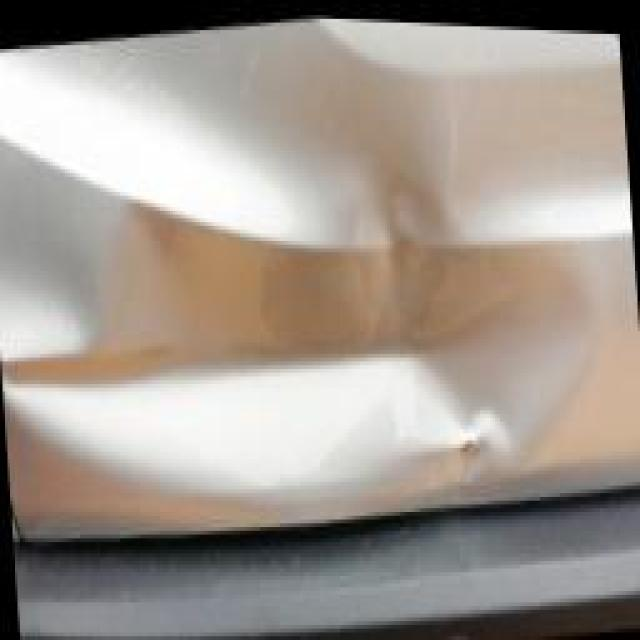Dickey: (0, 79, 610, 573)
